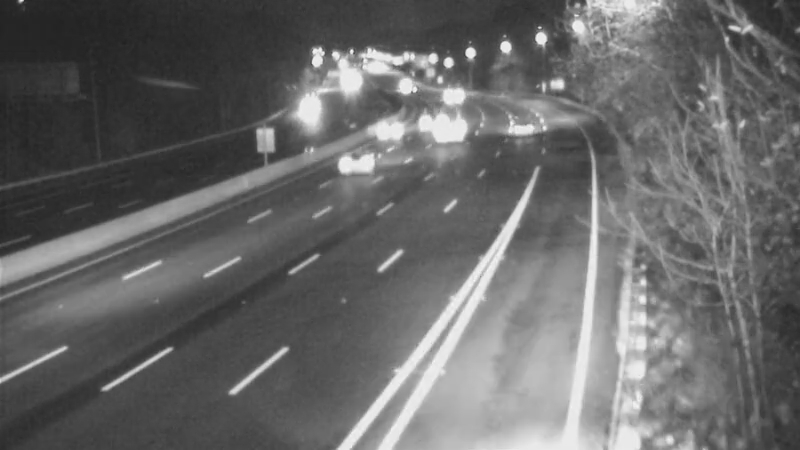vehicle: (320, 118, 400, 198), (424, 70, 474, 120), (401, 92, 451, 142), (427, 102, 477, 152), (362, 104, 412, 154), (492, 103, 542, 153), (273, 91, 323, 141)
